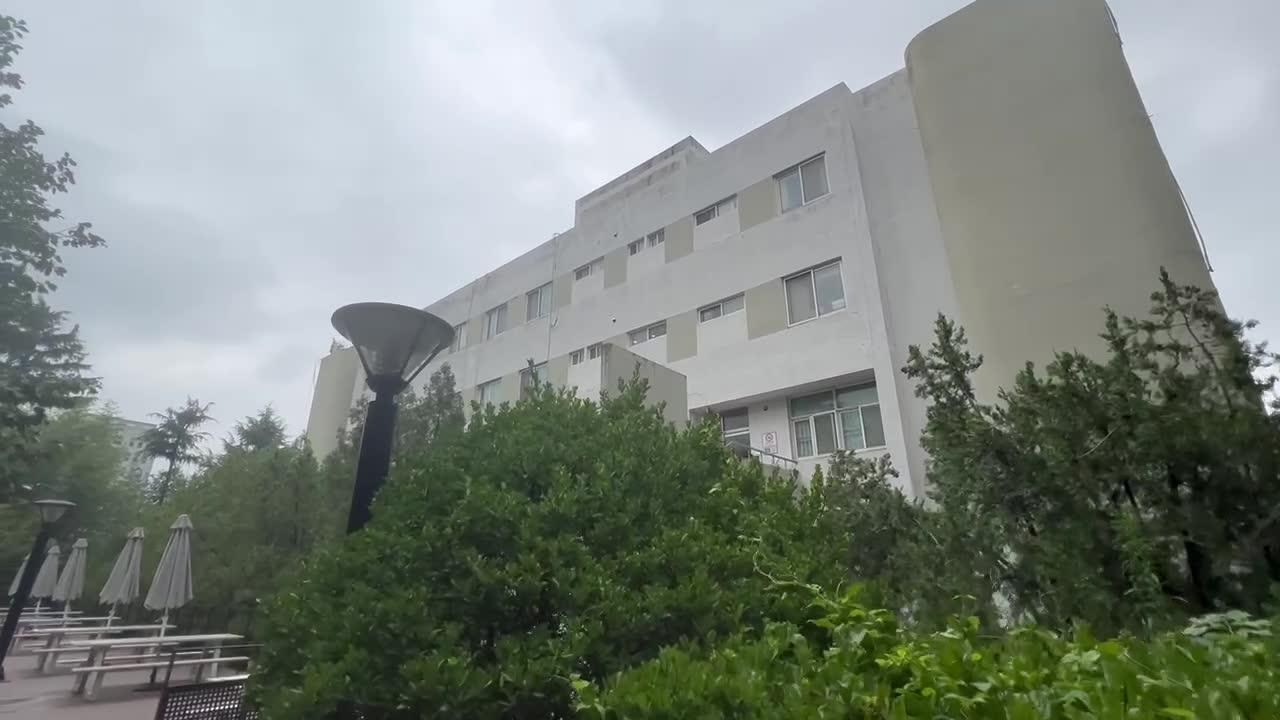building: (496, 54, 920, 419)
